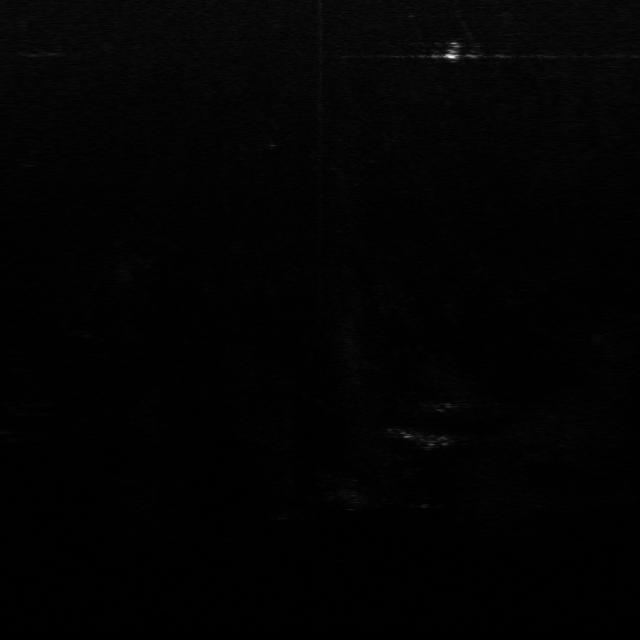rov: (440, 40, 470, 61)
